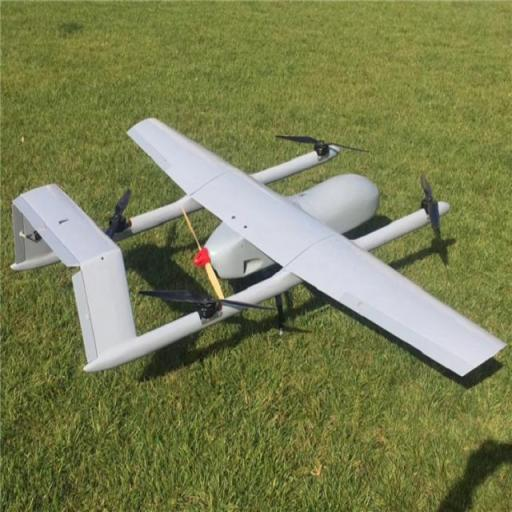uav: (8, 117, 507, 390)
